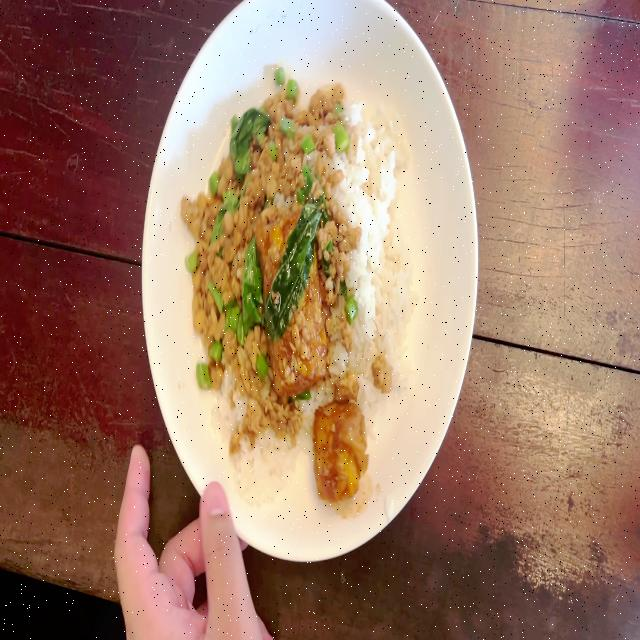fried_tofo: (261, 209, 321, 393), (313, 407, 364, 492)
minced_pork: (183, 87, 266, 450), (250, 65, 343, 207), (321, 201, 350, 383)
rice: (342, 94, 410, 349), (214, 412, 266, 491)
stir_fried_basil: (179, 61, 412, 503)
